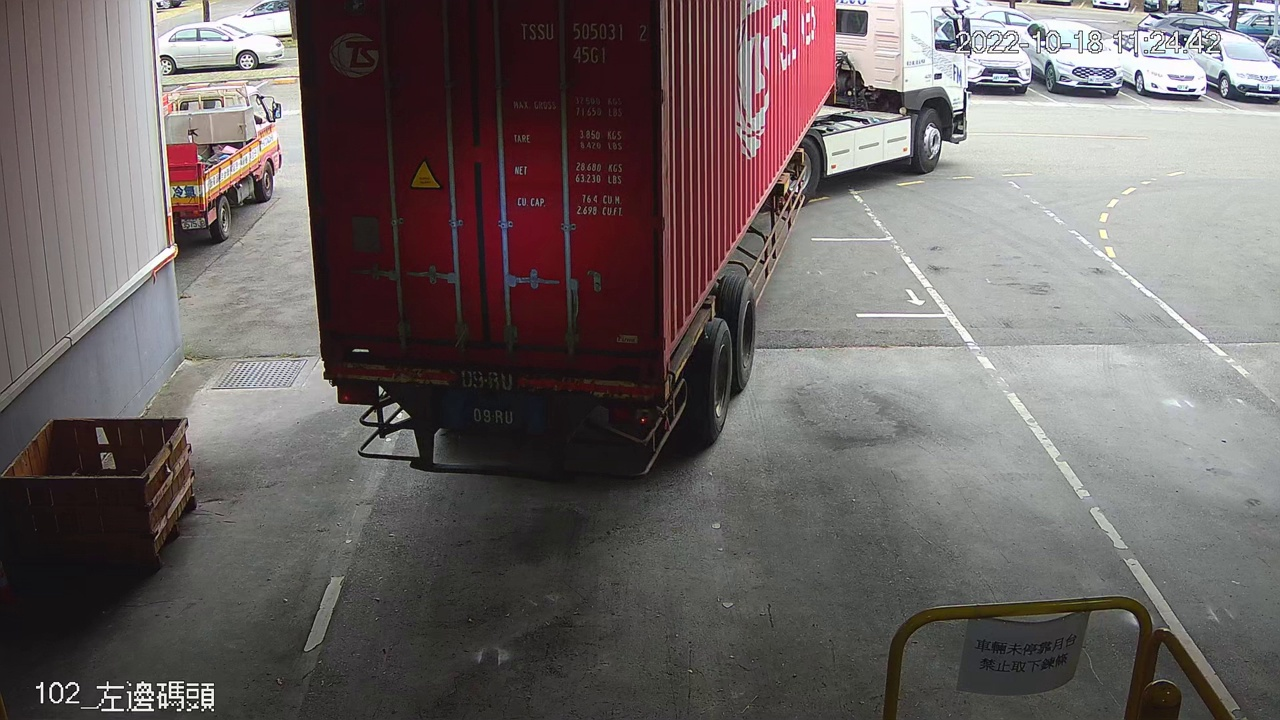container: (515, 13, 653, 69)
